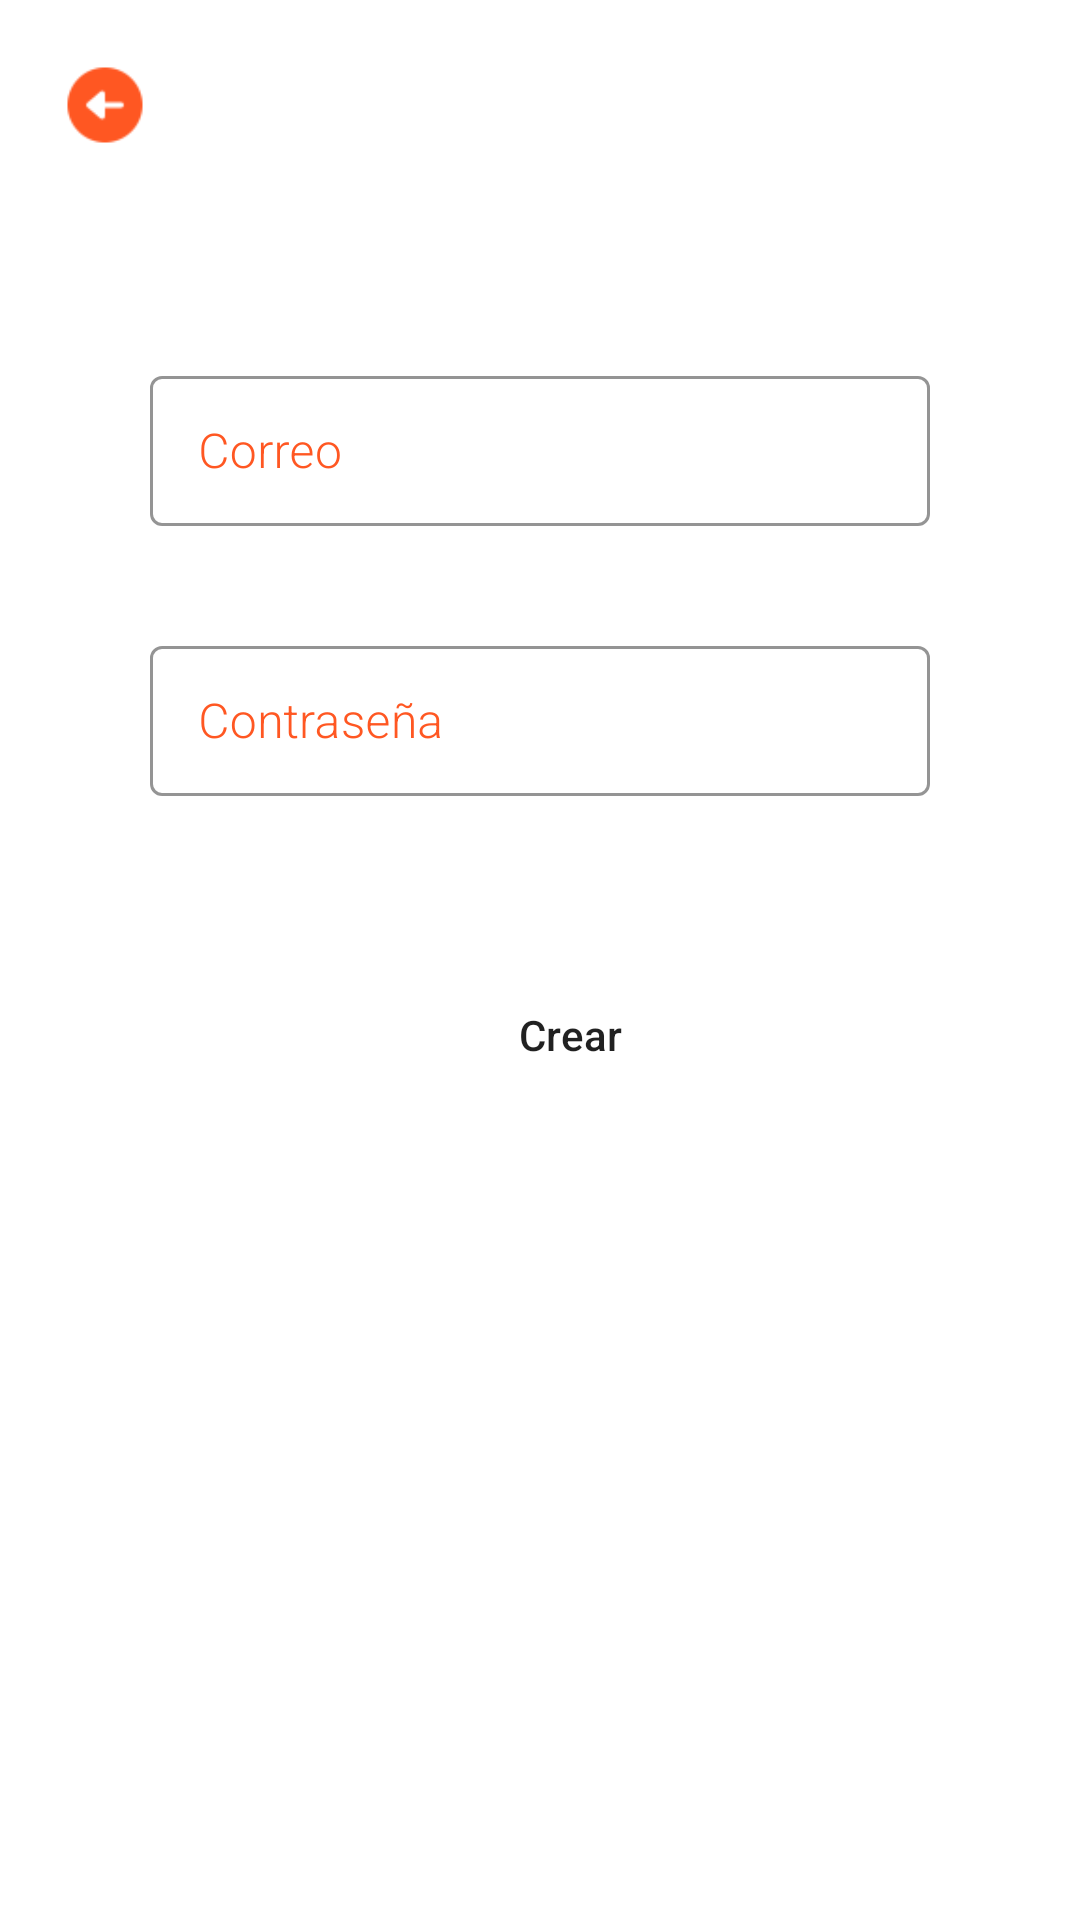

Screen size 1080 × 1920. Icon name, then its box in pixels as (x1, y1, x2, y2):
iconback: (67, 67, 143, 143)
